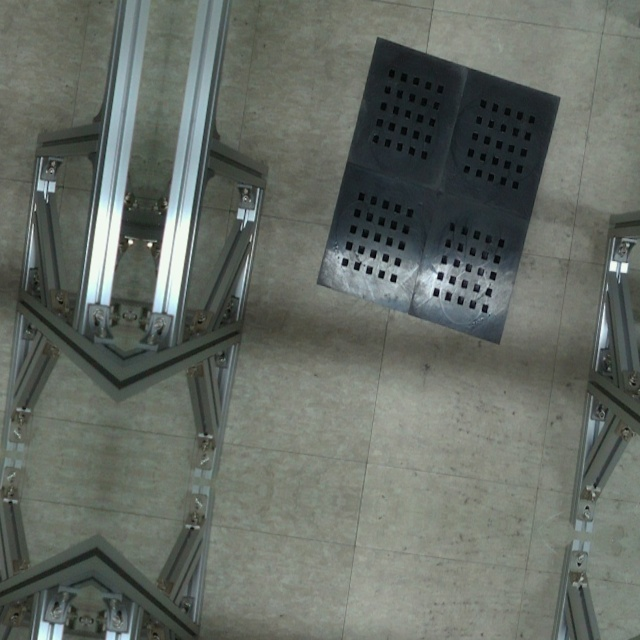pallet: (304, 27, 575, 357)
